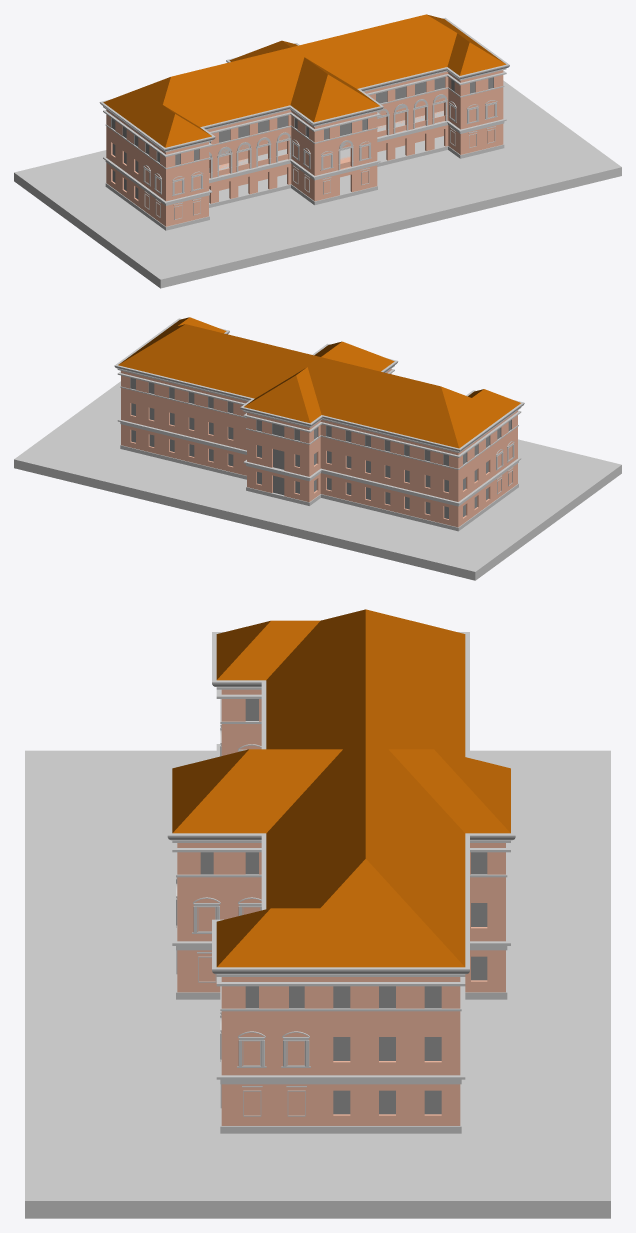
File: Mue.glb
3 views of the same model, one above another, from view 1: azimuth 30°, elevation 25°; view 2: azimuth 150°, elevation 25°; view 3: azimuth 270°, elevation 25° (orthographic). The views are drawn at different scales.
Visible parts, largest first — view 1: Model, Group9, Group5, Group1, Group2, Group10, Group4, Group6, Group3, Group11, Group7; view 2: Model, Group9, Group5, Group1, Group10, Group2, Group6, Group4, Group3, Group11, Group7; view 3: Model, Group9, Group5, Group1, Group10, Group4, Group2, Group6, Group3, Group11, Group7.
Boxes of the visible parts, <box> form: Model: <box>14,80,621,288</box>; Group9: <box>103,14,506,147</box>; Group5: <box>106,70,503,201</box>; Group1: <box>106,124,503,226</box>; Group2: <box>105,136,504,230</box>; Group10: <box>99,17,509,151</box>; Group4: <box>103,111,506,203</box>; Group6: <box>103,70,506,157</box>; Group3: <box>105,121,504,205</box>; Group11: <box>105,85,504,169</box>; Group7: <box>103,68,506,152</box>; Model: <box>14,377,621,580</box>; Group9: <box>118,317,520,448</box>; Group5: <box>121,369,517,501</box>; Group1: <box>121,424,517,527</box>; Group10: <box>114,318,524,451</box>; Group2: <box>120,445,518,531</box>; Group6: <box>117,369,521,457</box>; Group4: <box>117,418,521,504</box>; Group3: <box>120,422,518,506</box>; Group11: <box>120,386,518,469</box>; Group7: <box>117,365,521,452</box>; Model: <box>25,687,610,1218</box>; Group9: <box>172,609,510,967</box>; Group5: <box>177,689,505,1075</box>; Group1: <box>177,950,505,1125</box>; Group10: <box>167,632,515,974</box>; Group4: <box>172,744,510,1079</box>; Group2: <box>176,950,507,1133</box>; Group6: <box>172,689,510,986</box>; Group3: <box>176,946,507,1084</box>; Group11: <box>176,699,507,1011</box>; Group7: <box>172,687,510,976</box>.
Bounding box in the file's own units: 81.68 × 21.34 × 44.93.
